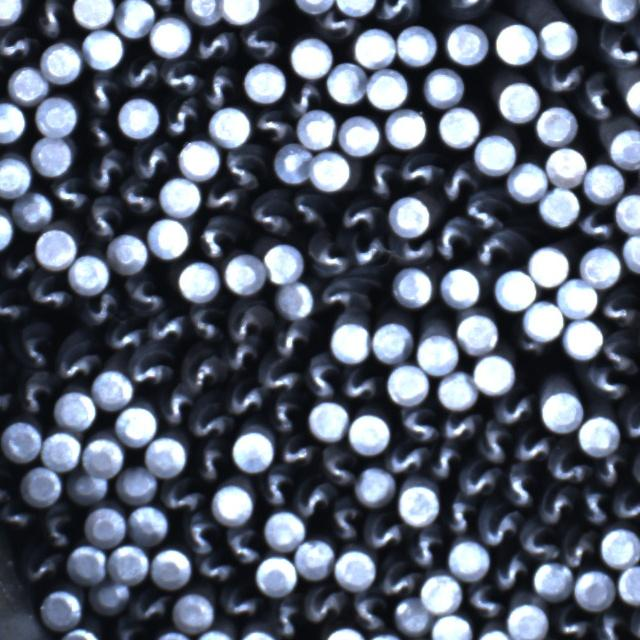tool: (495, 21, 539, 64), (230, 428, 273, 472), (41, 588, 84, 631), (398, 480, 440, 524), (145, 434, 188, 476), (224, 252, 266, 295), (212, 482, 255, 524), (457, 312, 500, 354), (255, 552, 298, 594), (541, 390, 583, 433), (438, 104, 481, 146), (290, 36, 334, 77), (444, 23, 488, 64), (494, 267, 538, 308), (418, 331, 460, 373), (36, 227, 78, 269), (347, 412, 389, 454), (389, 194, 431, 236), (334, 547, 376, 589), (578, 415, 620, 457), (498, 80, 540, 122), (372, 322, 414, 364), (177, 260, 220, 301), (366, 68, 409, 109), (354, 25, 397, 66), (338, 114, 381, 155), (114, 403, 157, 444), (327, 61, 368, 104), (422, 65, 465, 106), (388, 363, 430, 404), (2, 420, 43, 462), (208, 106, 250, 147), (151, 546, 192, 588), (148, 216, 189, 258), (448, 538, 490, 579), (331, 321, 372, 363), (396, 22, 438, 63), (108, 543, 150, 584), (539, 185, 581, 226), (82, 435, 124, 476), (150, 15, 192, 56), (311, 150, 353, 191), (575, 568, 616, 610), (263, 509, 305, 550), (127, 502, 169, 543), (385, 108, 428, 148), (441, 266, 482, 307), (599, 525, 640, 566), (42, 42, 83, 83), (86, 505, 127, 546), (179, 140, 221, 180), (584, 162, 626, 202), (474, 354, 516, 394), (69, 254, 111, 294), (264, 243, 304, 285), (520, 299, 562, 339), (578, 245, 620, 285), (421, 572, 463, 612), (474, 134, 516, 174), (546, 146, 586, 188), (22, 464, 62, 506), (158, 174, 200, 214), (245, 64, 287, 104), (528, 246, 570, 286), (35, 96, 77, 136), (91, 368, 133, 408), (54, 390, 96, 430), (295, 538, 335, 580), (171, 592, 213, 632), (296, 108, 336, 149), (42, 430, 82, 471), (83, 30, 124, 70), (563, 318, 604, 358), (507, 162, 548, 202), (65, 544, 106, 584), (557, 277, 598, 317), (309, 400, 350, 440), (119, 96, 160, 136), (537, 104, 578, 144), (33, 135, 74, 175), (354, 465, 394, 505), (394, 268, 434, 308), (108, 233, 148, 273), (272, 142, 312, 182), (507, 601, 548, 640), (437, 371, 478, 410), (531, 560, 572, 599), (394, 596, 432, 638), (540, 18, 579, 58), (117, 466, 158, 504), (7, 64, 47, 102), (115, 0, 156, 37), (91, 577, 132, 614), (69, 469, 111, 505), (12, 191, 50, 230), (276, 280, 314, 317), (0, 152, 31, 196), (609, 127, 640, 167), (432, 612, 473, 640), (72, 0, 115, 26), (0, 99, 26, 140), (616, 192, 640, 232), (618, 565, 640, 607), (185, 0, 223, 24), (220, 0, 260, 22), (600, 0, 640, 21), (623, 233, 640, 273), (625, 76, 640, 118), (0, 208, 14, 251), (323, 626, 366, 640), (336, 0, 375, 15), (0, 0, 24, 24), (58, 627, 101, 640), (292, 0, 334, 13), (194, 629, 238, 640), (237, 629, 280, 640), (476, 628, 514, 640), (152, 630, 193, 640), (365, 631, 408, 640)
tool_b: (54, 329, 102, 383), (193, 214, 240, 260), (578, 70, 619, 122), (222, 144, 268, 190), (248, 188, 292, 236), (594, 24, 639, 70), (12, 321, 54, 370), (474, 226, 522, 268), (180, 345, 223, 390), (288, 188, 331, 232), (434, 215, 474, 262), (227, 298, 270, 341), (188, 397, 232, 439), (337, 192, 383, 232), (128, 346, 174, 386), (85, 194, 124, 241), (478, 505, 520, 548), (308, 233, 350, 276), (26, 270, 70, 311), (40, 504, 80, 549), (16, 369, 54, 416), (133, 140, 175, 182), (518, 520, 560, 562), (464, 188, 506, 230), (405, 524, 445, 568), (192, 440, 232, 484), (19, 545, 63, 585), (439, 159, 479, 203), (360, 154, 400, 198), (601, 330, 639, 376), (303, 584, 346, 624), (395, 404, 438, 444), (123, 274, 166, 314), (582, 363, 626, 402), (224, 523, 264, 565), (348, 589, 390, 629), (362, 510, 404, 550), (88, 150, 128, 192), (225, 378, 268, 417), (500, 464, 538, 508), (320, 274, 364, 312), (302, 354, 339, 399), (162, 96, 202, 137), (464, 580, 504, 621), (258, 356, 301, 394), (158, 385, 195, 429), (294, 478, 334, 518), (600, 285, 640, 325), (273, 320, 313, 360), (457, 459, 498, 498), (319, 444, 357, 486), (182, 512, 220, 554), (188, 304, 226, 346), (547, 446, 589, 484), (340, 364, 382, 402), (202, 64, 239, 107), (192, 25, 235, 62), (328, 497, 362, 543), (120, 176, 159, 216), (239, 22, 280, 60), (376, 560, 417, 598), (536, 484, 574, 525), (28, 0, 70, 37), (493, 392, 536, 428), (476, 422, 512, 465), (398, 151, 438, 189), (560, 528, 597, 569), (158, 58, 200, 94), (219, 582, 261, 618), (539, 60, 582, 95), (160, 477, 203, 512), (269, 594, 303, 638), (50, 176, 88, 215), (252, 108, 293, 144), (259, 468, 295, 509), (576, 483, 611, 525), (130, 589, 172, 624), (490, 552, 528, 590), (578, 205, 617, 242), (276, 434, 316, 470), (78, 291, 118, 327), (348, 233, 388, 269), (146, 310, 186, 346), (267, 394, 303, 434), (425, 442, 462, 480), (286, 78, 324, 115), (442, 497, 478, 536), (84, 74, 119, 114), (514, 429, 552, 465), (121, 56, 160, 91), (104, 317, 143, 351), (384, 443, 424, 476), (201, 182, 242, 214), (193, 552, 234, 584), (594, 450, 630, 486), (553, 606, 591, 640), (392, 235, 434, 265), (82, 115, 117, 150), (593, 610, 633, 640), (0, 26, 34, 61), (0, 497, 33, 533), (439, 410, 476, 442), (318, 9, 355, 40), (223, 340, 258, 372), (2, 251, 36, 283), (374, 0, 418, 23), (612, 489, 640, 525), (0, 286, 26, 324), (436, 0, 496, 16), (622, 401, 640, 445)
